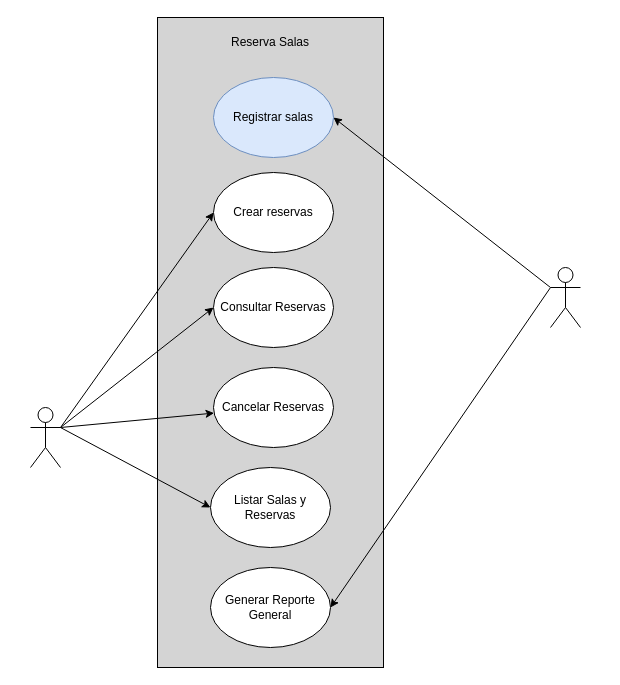
This 620x685 diagram has some shape labels left out. The shapes that lost their labels are listed below. From the top down, each one's centre as x and y in pixels, then its label:
At pixel 565 297: "Administrador".
At pixel 45 437: "Estudiante".
